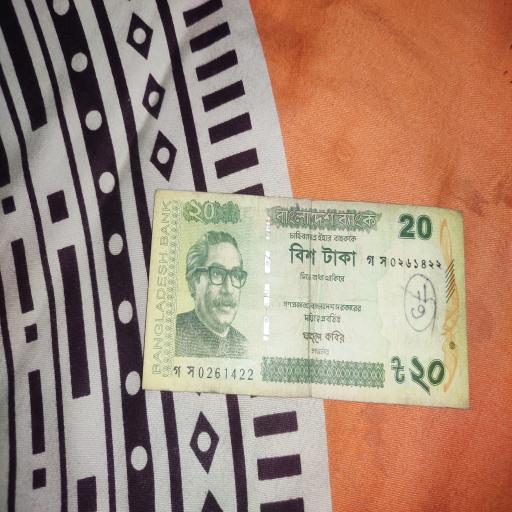20taka: (156, 190, 473, 413)
